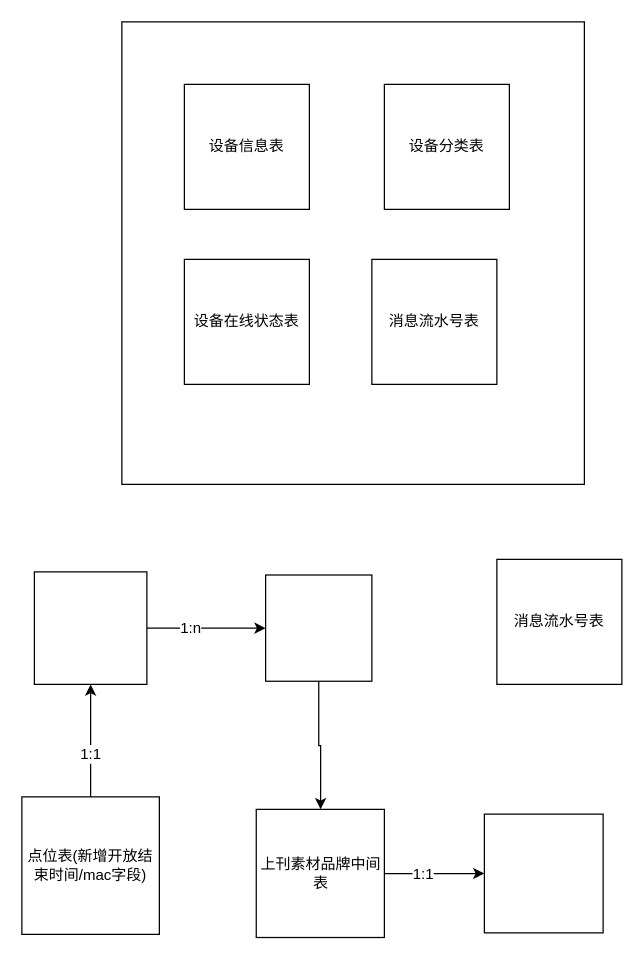
Some shapes in this 644 by 960 pixel diagram are drawn without their labels. The centre of each missing label's shape, as x and y in pixels:
上刊素材表: (x=318, y=627)
广告素材播放次数表: (x=543, y=873)
订单详情表: (x=90, y=627)
